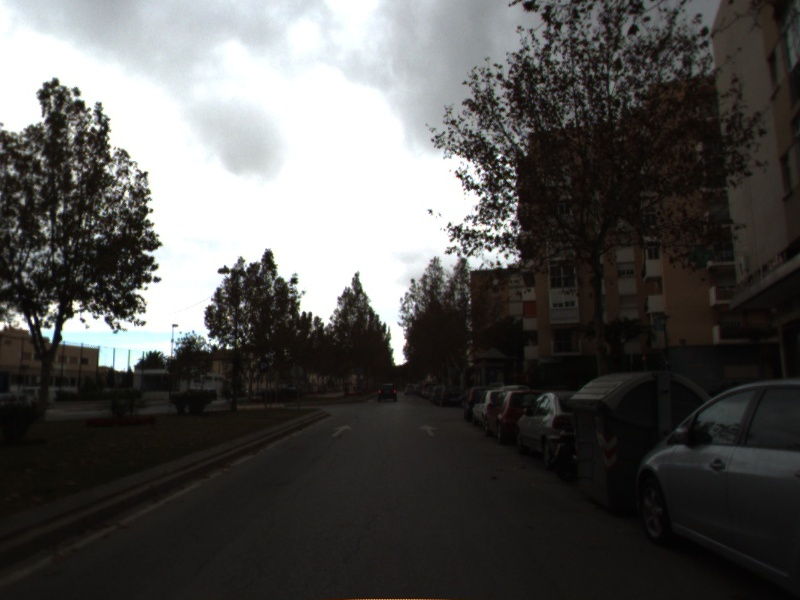STRAIGHT: (330, 423, 355, 439), (417, 422, 441, 438)
